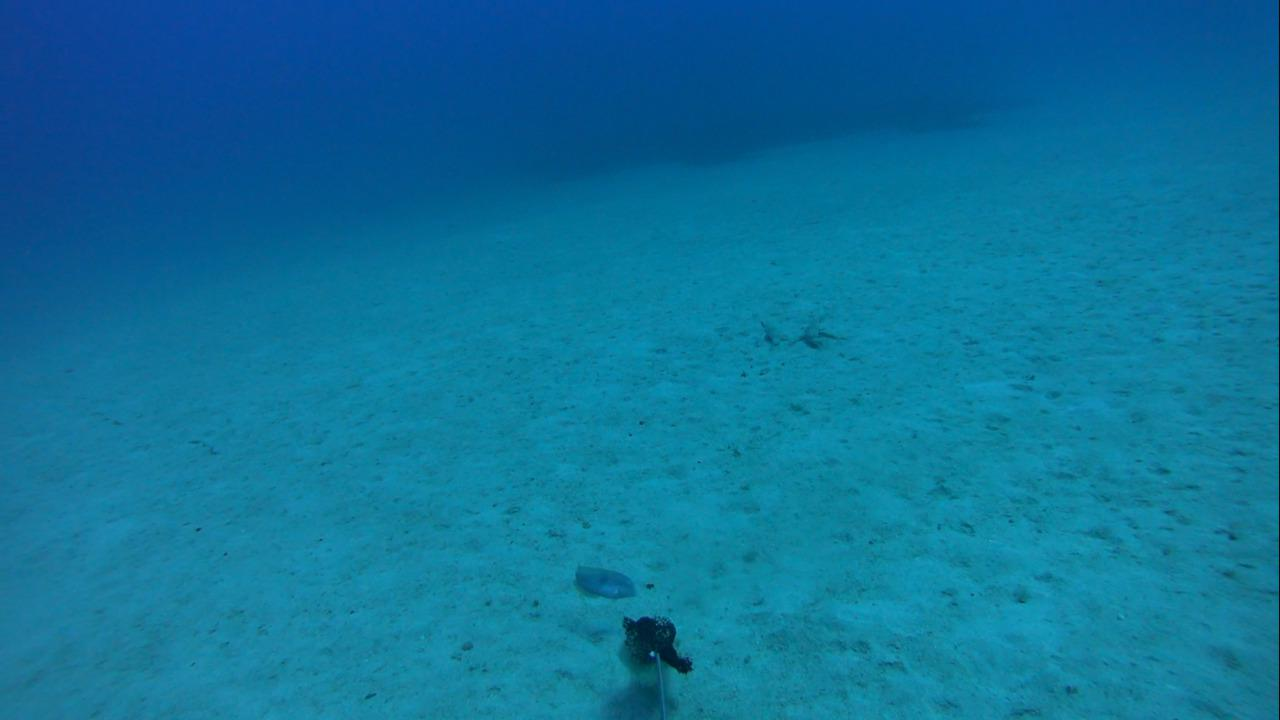dactylopterus: (787, 312, 845, 351), (750, 312, 792, 360)
raor: (567, 556, 638, 602)
